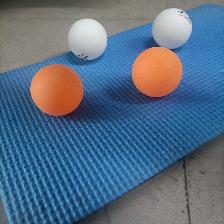WhiteBall: (67, 18, 107, 60), (152, 7, 192, 48)
YellowBall: (30, 64, 82, 115), (131, 47, 181, 97)
